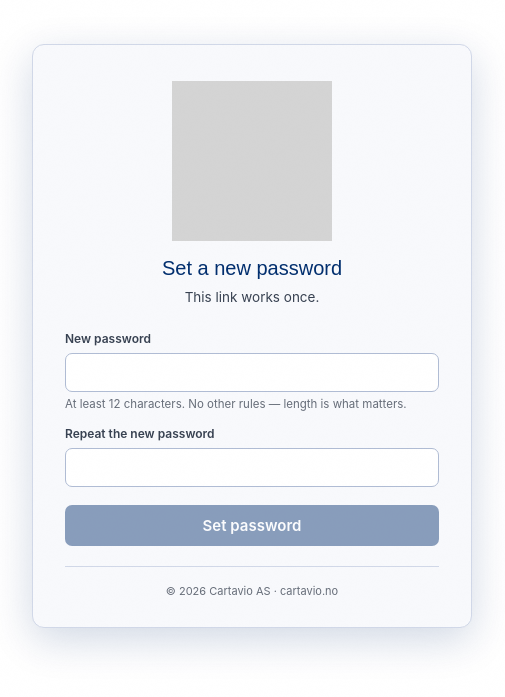
Test case: <ResetScreen> › catches a mistyped repeat before spending the one-shot token
Type "correct-horse-battery" into the password field labelled "New password".
click(252, 373); type("correct-horse-battery")  # box top-left (65, 353), bottom-right (439, 392)
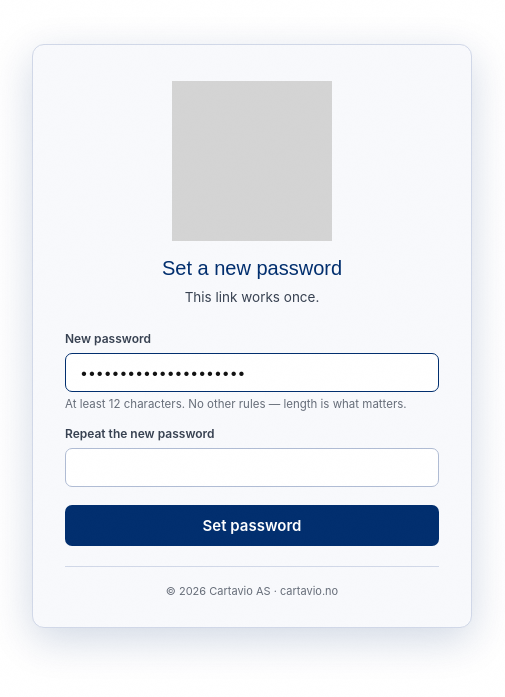
Type "correct-horse-batter" into the password field labelled "Repeat the new password".
click(252, 467); type("correct-horse-batter")  # box top-left (65, 448), bottom-right (439, 487)
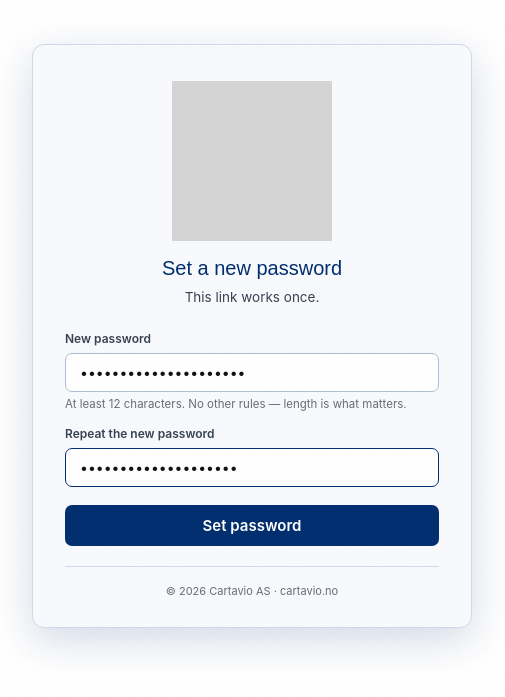
Click the button "Set password".
click(252, 525)  # box top-left (65, 505), bottom-right (439, 546)
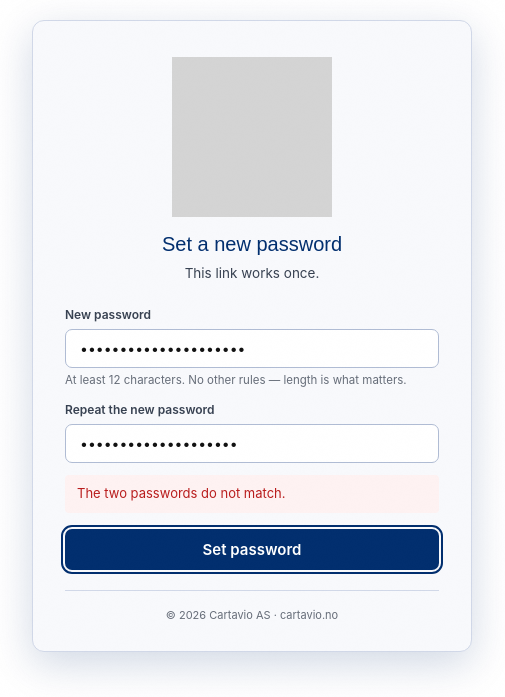
expect the message shows "do not match": met, box top-left (77, 485), bottom-right (286, 501)
